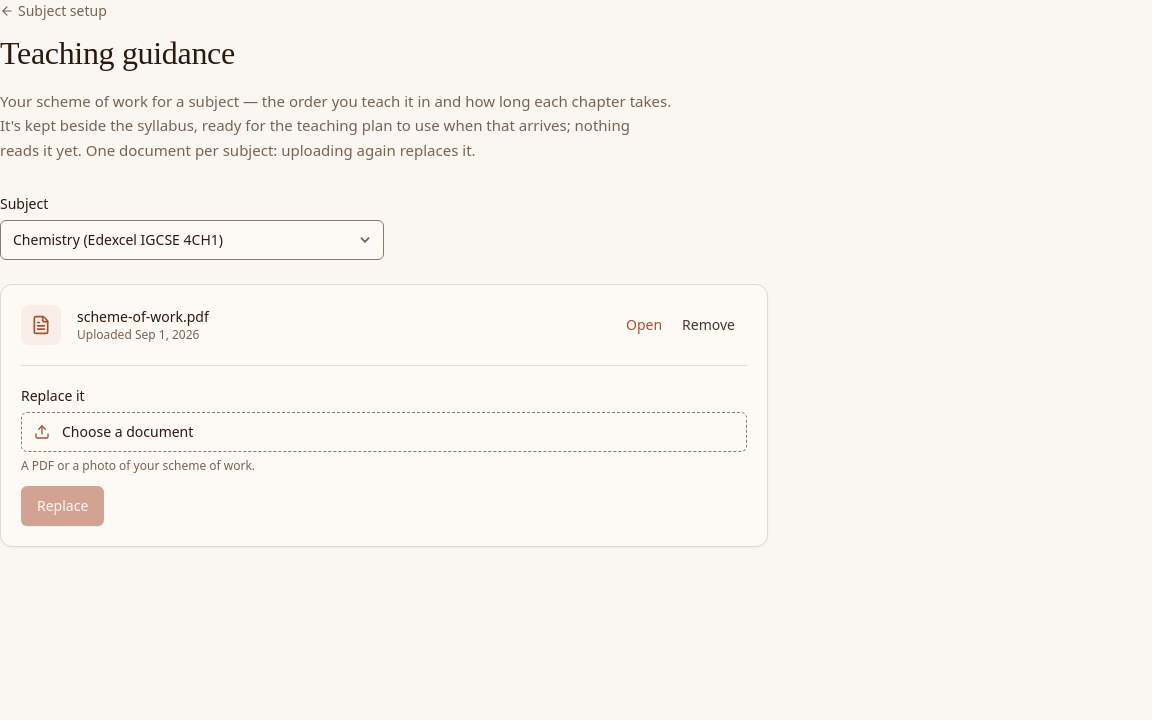
Test case: removing a document leaves the absent state, not the old one
Click the button "Remove" at (709, 325), box x1=670 y1=309 x2=747 y2=341
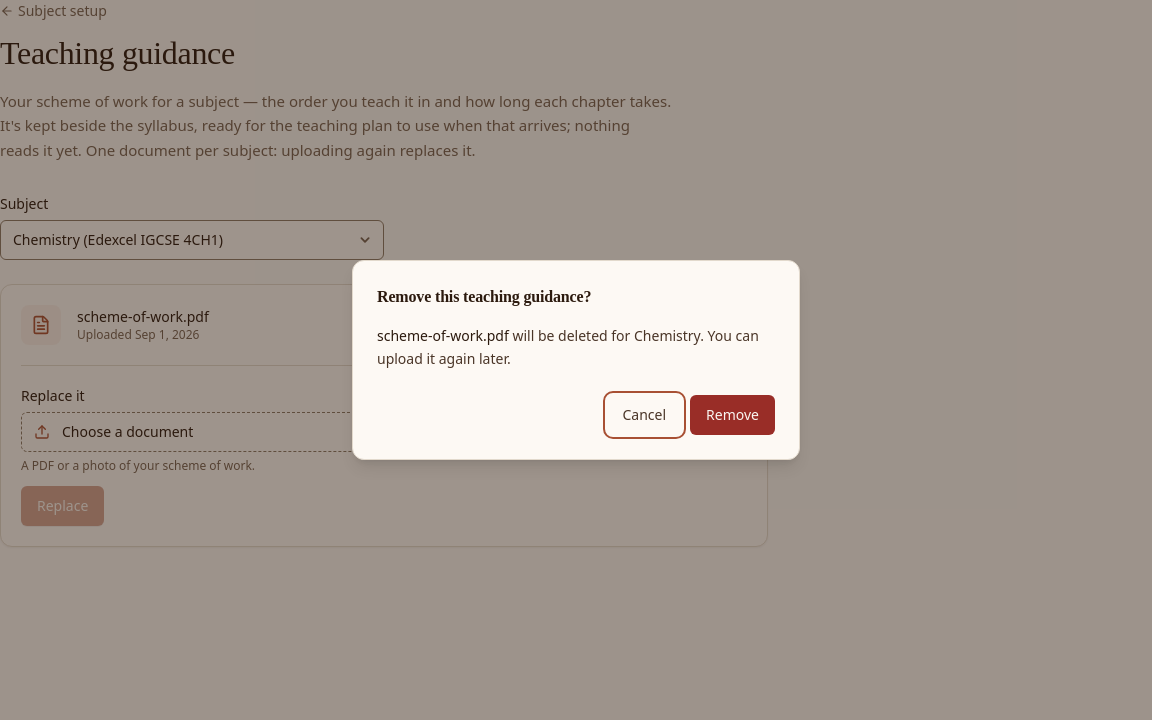
Click the button "Remove" at (733, 415), box x1=690 y1=395 x2=775 y2=435
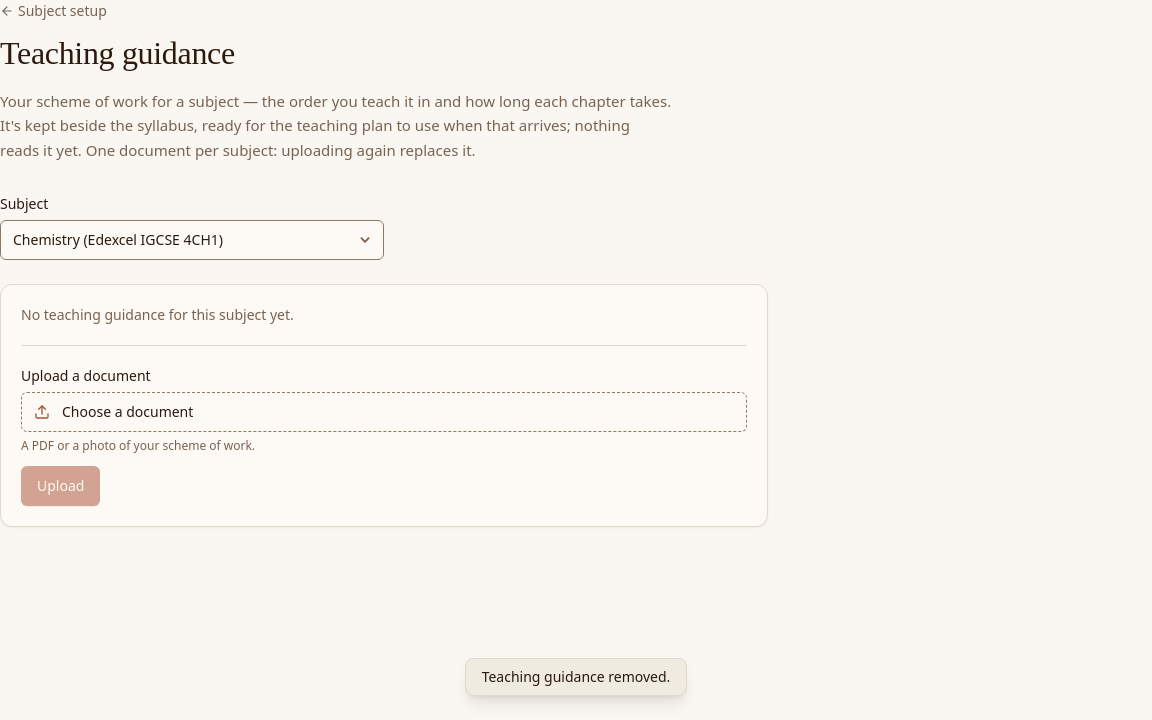
Result: the text "No teaching guidance for this subject yet." is shown at x1=21 y1=305 x2=294 y2=324
Result: the text "scheme-of-work.pdf" is gone
